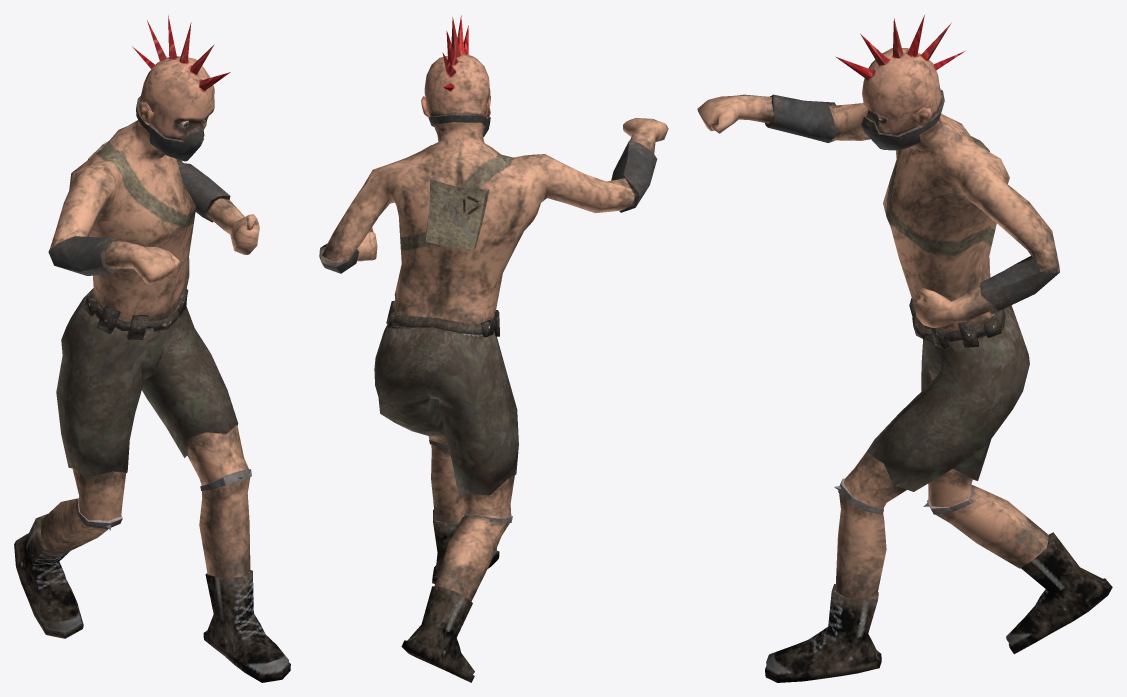
Rendered from Anim_ataque_d1_npc2.0025.obj.
3 views of the same model, side by side, from view 1: azimuth 30°, elevation 25°; view 2: azimuth 150°, elevation 25°; view 3: azimuth 270°, elevation 25° (orthographic). The views are drawn at different scales.
Parts seen in each view (by area): view 1: polySurface1; view 2: polySurface1; view 3: polySurface1.
Part boxes in pixels (x1=…): polySurface1: x1=14, y1=14, x2=290, y2=682; polySurface1: x1=319, y1=15, x2=668, y2=682; polySurface1: x1=697, y1=15, x2=1112, y2=682.
Bounding box in the file's own units: 4.07 × 9.72 × 5.48.
